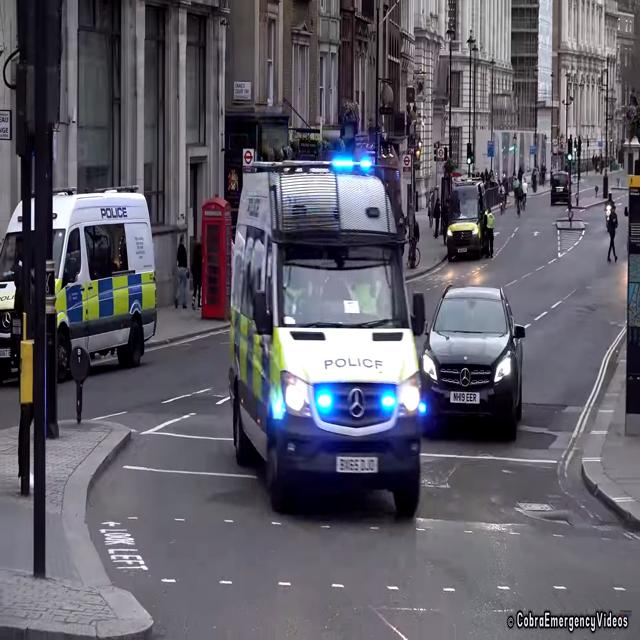emergency-vehicles: (215, 144, 450, 521)
